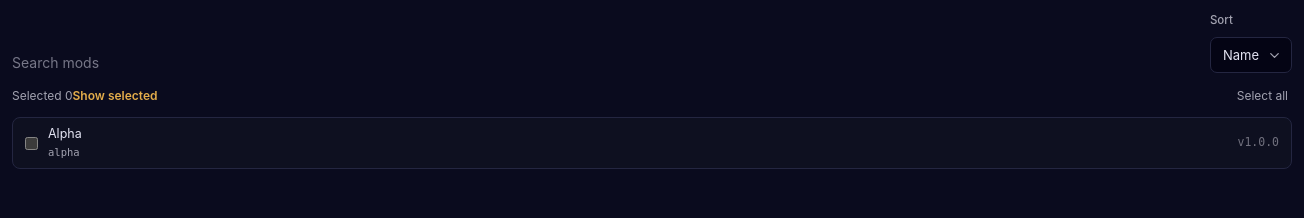
<ModMultiSelect> selected peek › shows the empty hint when nothing is selected
What coordinates should you click on to do the following:
click the button "Selected 0Show selected"
I would click on:
 (85, 96)
Its box is [12, 87, 158, 105].
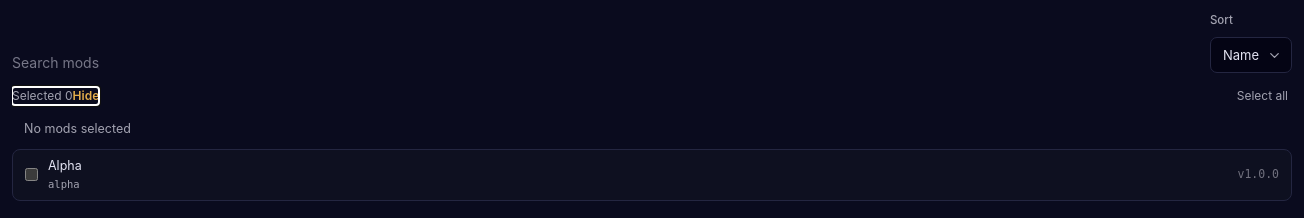
Expected: the element with test id "mod-multiselect-selected-peek" does not show "Alpha", [24, 121, 131, 136]
Expected: the element with test id "mod-multiselect-selected-peek" reads "No mods selected", [24, 121, 131, 136]
